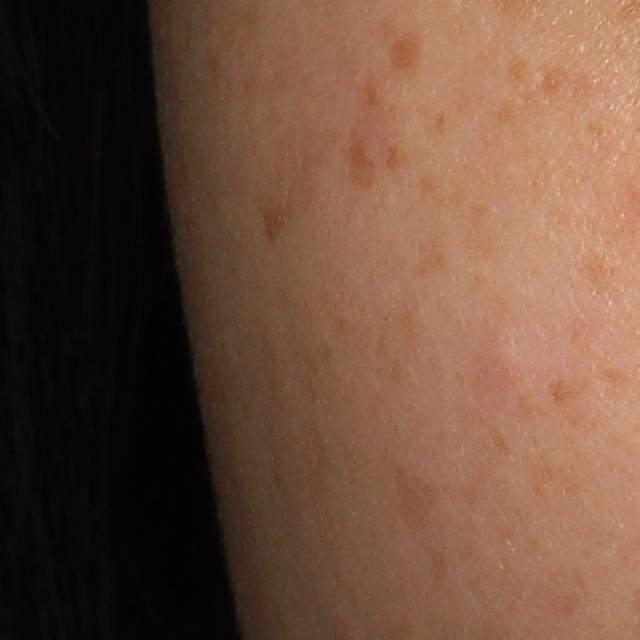melasma: (382, 29, 420, 86), (342, 128, 378, 187), (538, 62, 567, 98), (502, 55, 528, 88)
